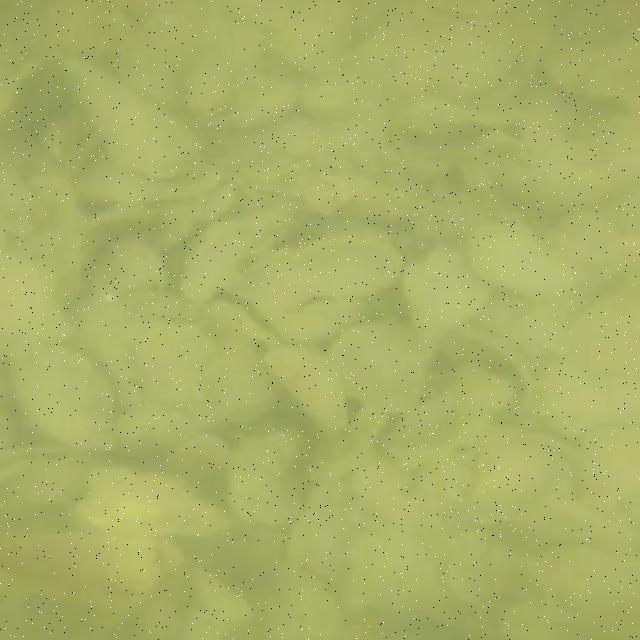Oyster-Closed: (65, 60, 207, 174), (238, 236, 398, 310), (76, 468, 241, 535), (14, 341, 113, 448), (185, 204, 298, 296), (463, 440, 568, 524), (70, 147, 227, 201), (330, 319, 422, 410), (468, 215, 571, 293), (344, 531, 433, 613), (233, 436, 305, 533), (404, 250, 487, 333), (534, 354, 611, 440), (267, 347, 343, 428), (501, 167, 620, 215), (397, 96, 528, 139), (199, 81, 295, 136), (206, 351, 277, 423), (580, 426, 635, 513), (95, 234, 171, 296), (0, 61, 63, 134), (187, 568, 257, 627), (121, 403, 195, 455), (171, 434, 228, 492), (452, 561, 498, 601)
Oyster-Open: (443, 333, 534, 413)
